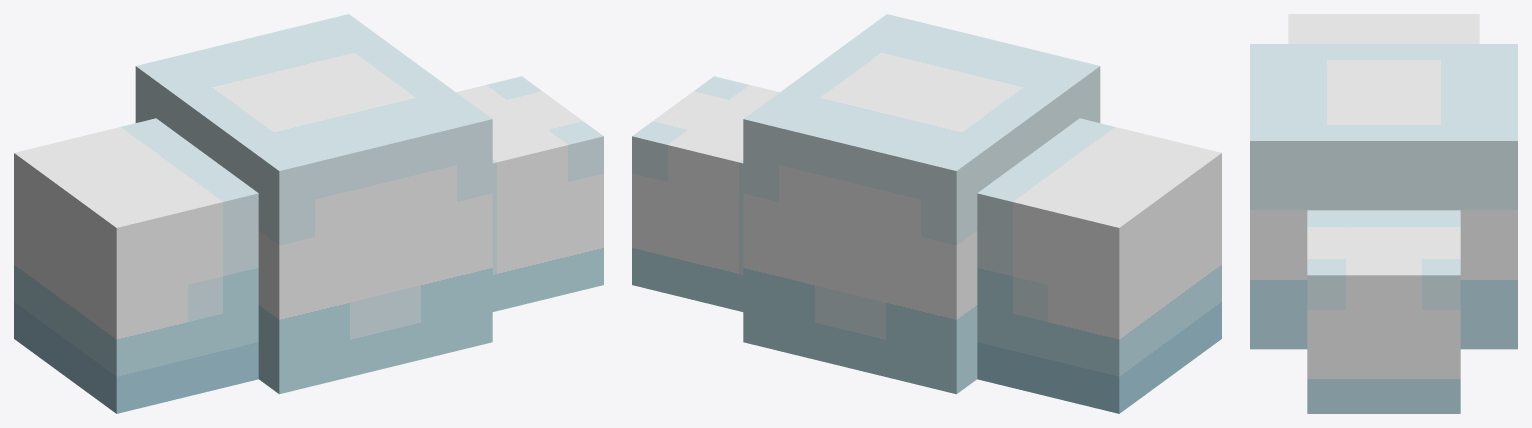
The model's file is small-cloud-2.gltf.
3 views of the same model, side by side, from view 1: azimuth 30°, elevation 25°; view 2: azimuth 150°, elevation 25°; view 3: azimuth 270°, elevation 25° (orthographic). The views are drawn at different scales.
Parts seen in each view (by area): view 1: cube (×3); view 2: cube (×3); view 3: cube (×3).
Part boxes in pixels (x1=…): cube (×3): x1=14, y1=14, x2=603, y2=413; cube (×3): x1=632, y1=14, x2=1221, y2=413; cube (×3): x1=1250, y1=14, x2=1517, y2=413.
Size of the model in its own units: 0.875 by 0.375 by 0.4375.
1 material, 1 textured.
